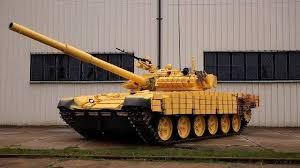t72: (7, 20, 258, 140)
